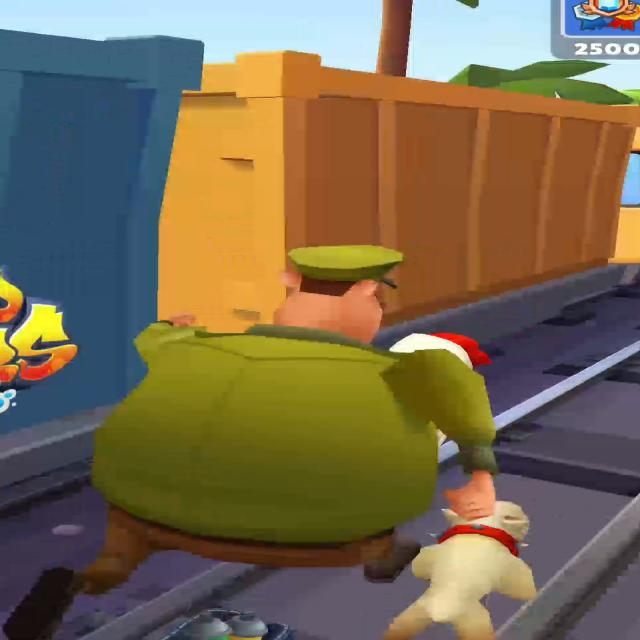police: (83, 246, 497, 594)
train: (159, 52, 639, 331), (609, 128, 639, 263)
